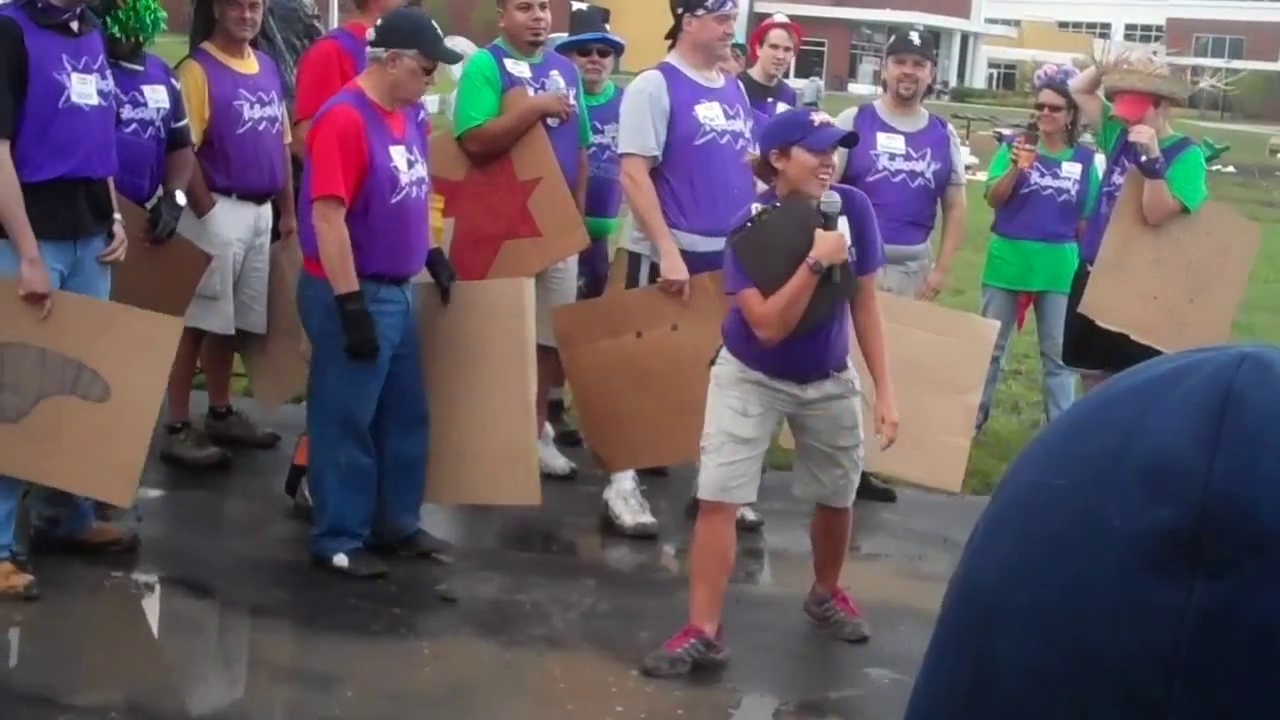person: (640, 107, 900, 680), (298, 10, 464, 578), (452, 2, 589, 480), (159, 1, 295, 468), (975, 83, 1102, 426), (621, 1, 757, 292), (836, 28, 967, 304)
